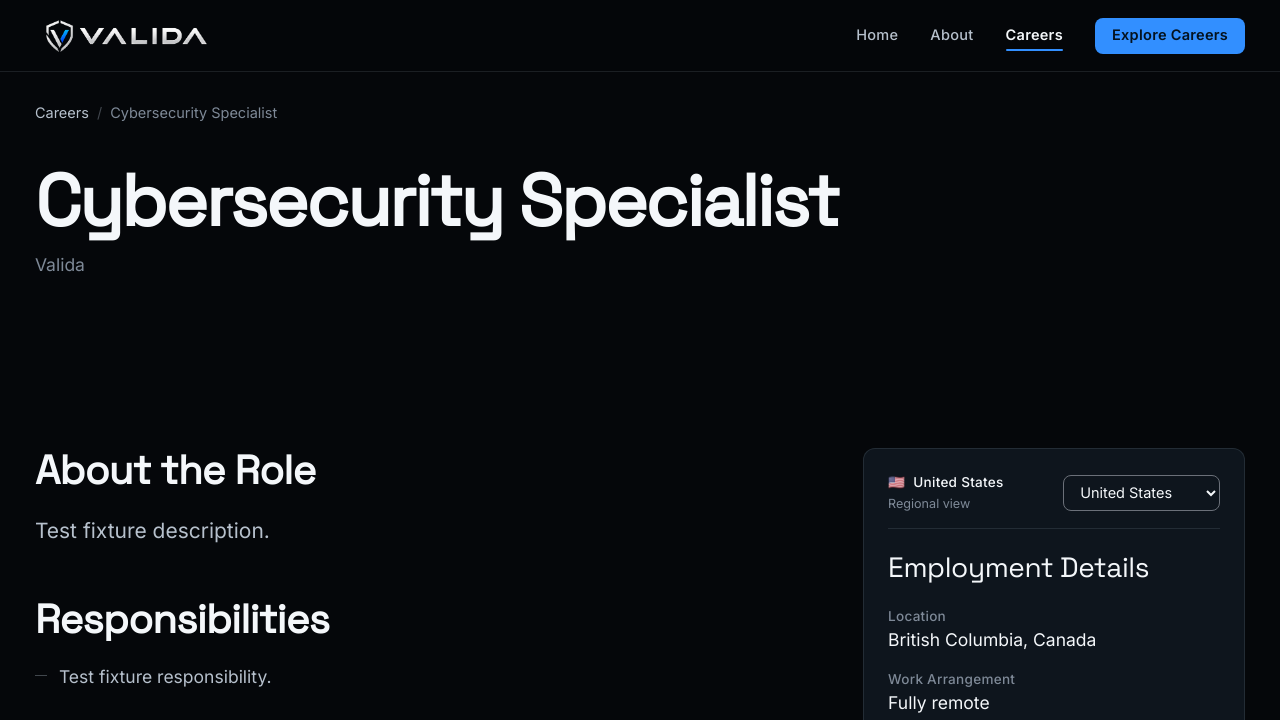
Scenario: C4 — Job lifecycle in the browser (Doc 16 sections 121-141) › client navigation Job -> Careers moves the canonical; a stale JobPosting script is removed by the mounted route
Check: the heading "Cybersecurity Specialist" is shown, box [35,155,838,247]
Click the 2nd link "Careers". click: (62, 113)
box: [35,104,89,122]
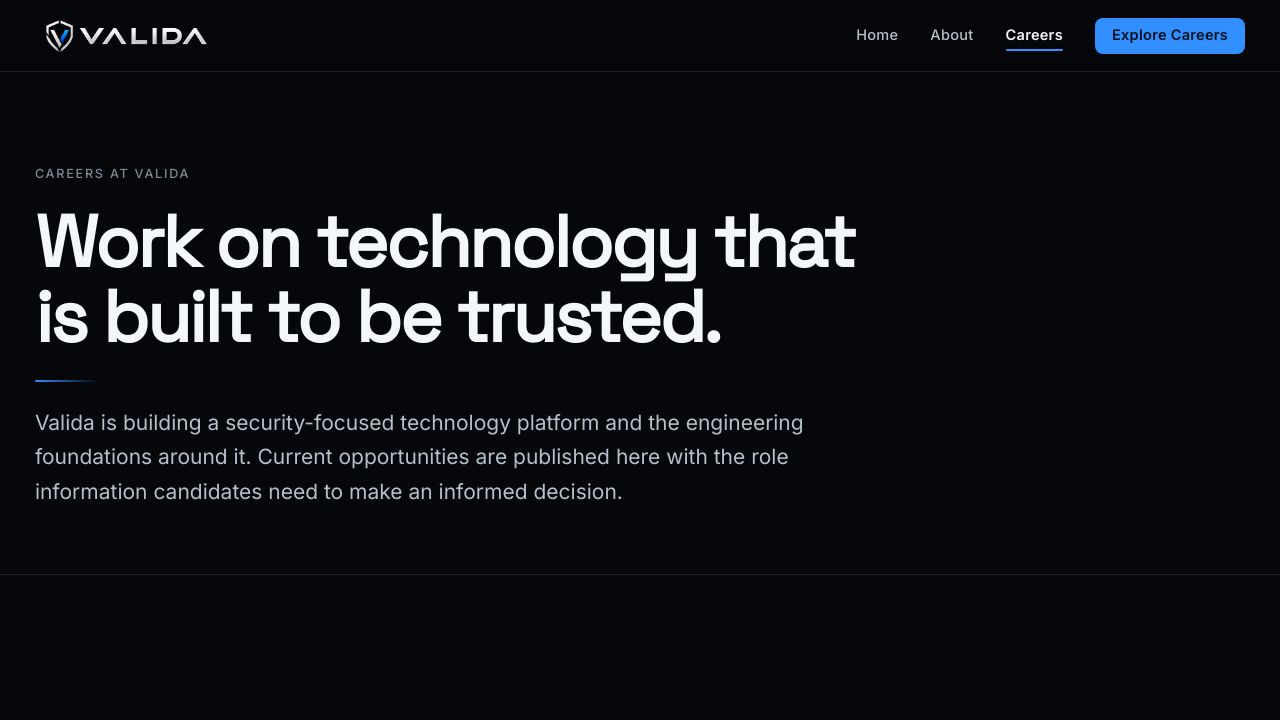
Check: the heading "Work on technology that is built to be trusted." is shown, box [35,196,854,363]
